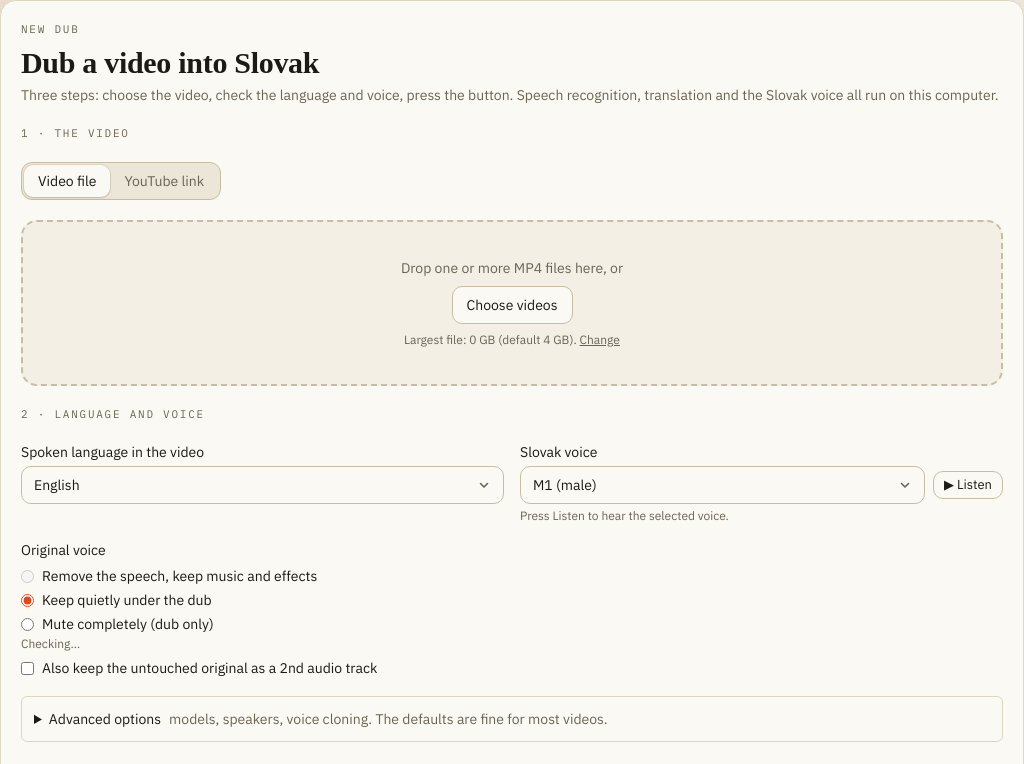
Scenario: NewProject › warns that muting removes music
Expected: the text "removes music" is not shown
Click the radio button labelled "Mute completely (dub only)" at (28, 624), box [21, 618, 34, 630]
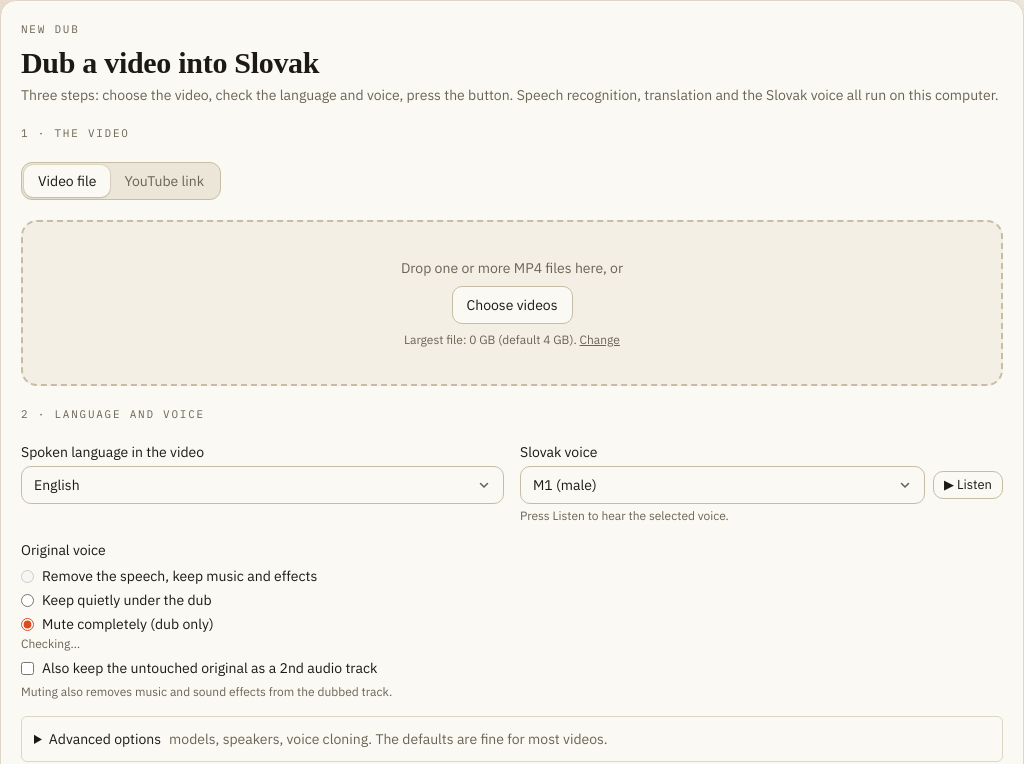
Now the text "removes music" is shown, box [21, 684, 392, 699]
